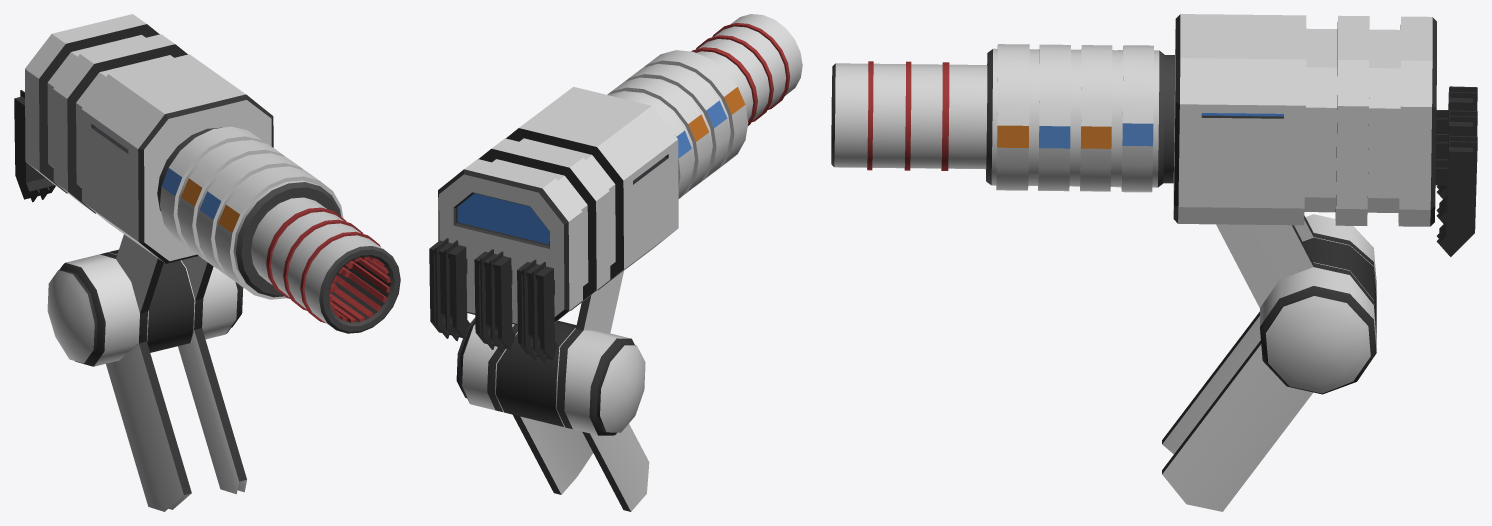
Rendered from tower_eon_cannon_asset.fbx.
3 renders of one model, left to right at view 1: azimuth 30°, elevation 25°; view 2: azimuth 150°, elevation 25°; view 3: azimuth 270°, elevation 25°, orthographic. The views are drawn at different scales.
Parts seen in each view (by area): view 1: tower_top, tower_bottom; view 2: tower_top, tower_bottom; view 3: tower_top, tower_bottom.
Part boxes in pixels (x1=…): tower_top: x1=14, y1=14, x2=400, y2=366; tower_bottom: x1=106, y1=328, x2=246, y2=511; tower_top: x1=429, y1=14, x2=802, y2=435; tower_bottom: x1=513, y1=414, x2=649, y2=511; tower_top: x1=831, y1=14, x2=1477, y2=394; tower_bottom: x1=1162, y1=311, x2=1313, y2=511.
Size of the model in its own units: 9.09 by 20.61 by 26.64.
